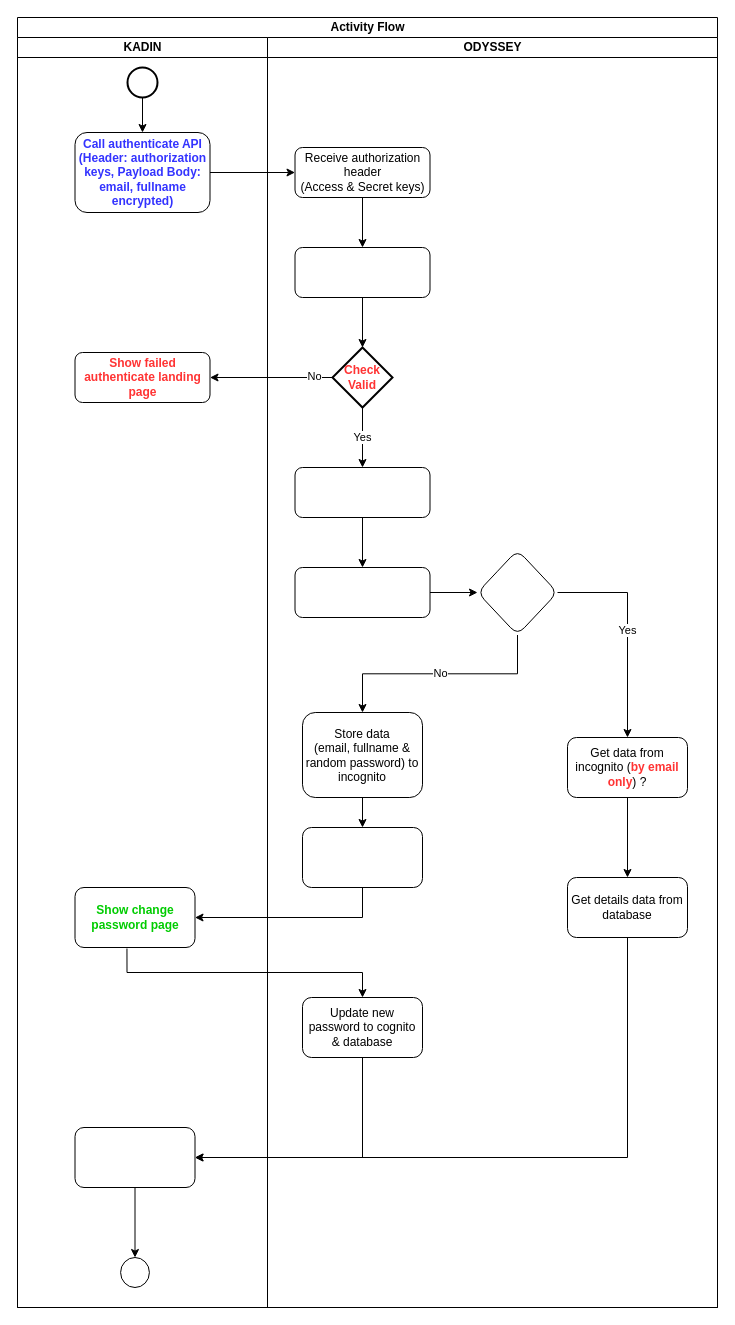
Some shapes in this 735 by 1325 pixel diagram are drawn without their labels. Each missing label, with the centre of its shape:
Check existing user (cognito): the point at 517,592
Decrypt email & fullname: the point at 362,592
Receive request body (Payload: email & fullname): the point at 362,492
Show landing page authenticated user: the point at 134,1157
Store data (email, fullname & random password) to database: the point at 362,857
Validate keys & subscription date: the point at 362,272
